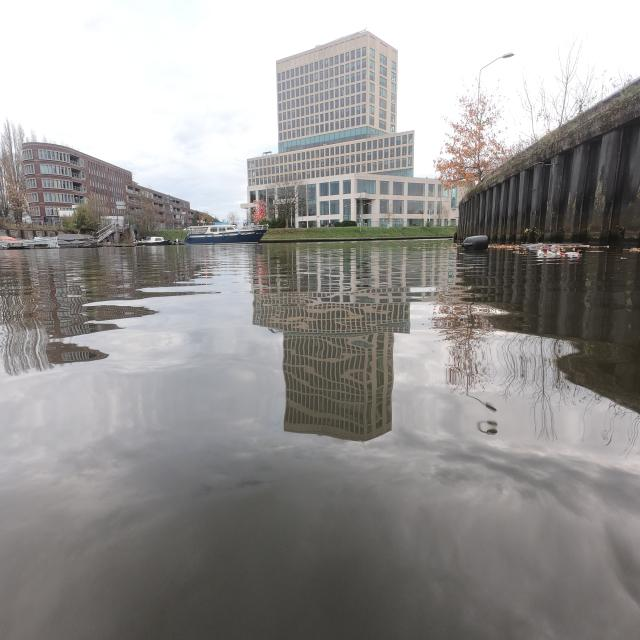boat: (184, 223, 268, 245), (0, 236, 59, 249), (56, 233, 98, 248), (137, 236, 168, 246)
grass: (261, 226, 456, 243)
wall: (459, 78, 640, 244)
water: (0, 240, 640, 640)
